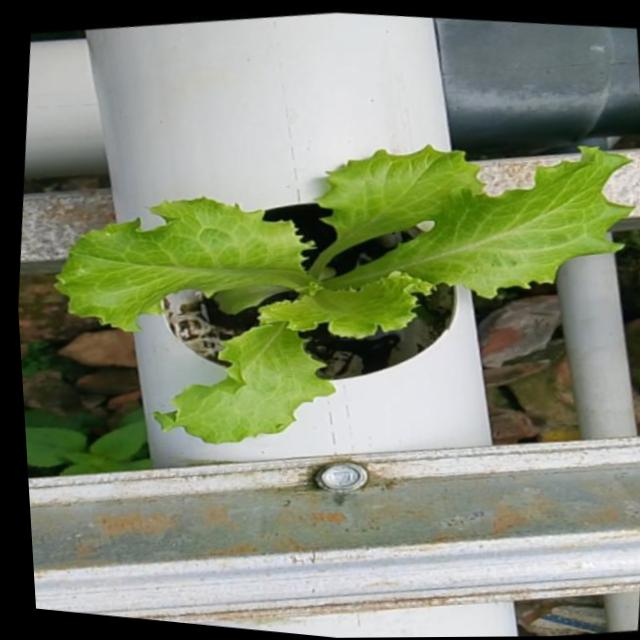Baby: (53, 147, 629, 443)
